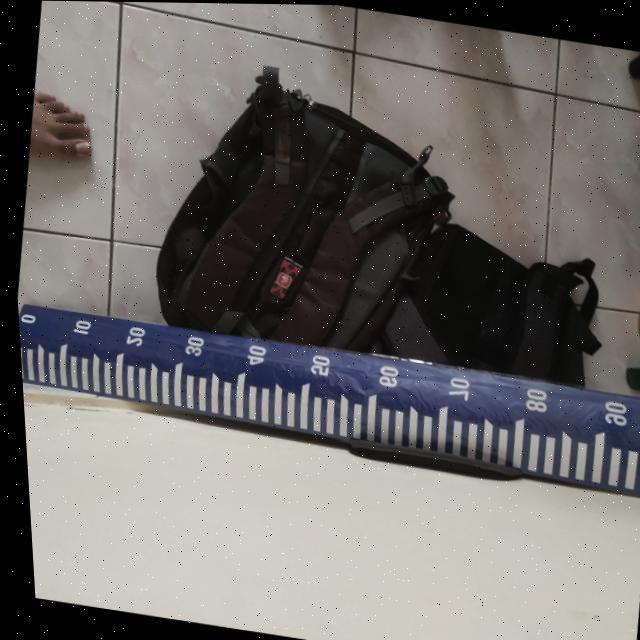water-meter: (16, 272, 640, 511)
